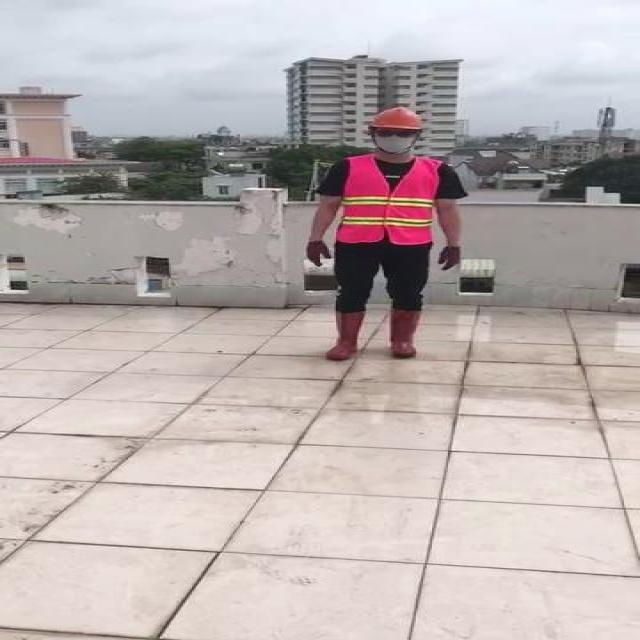boots: (326, 308, 364, 360), (387, 308, 425, 358)
face_mask: (373, 128, 418, 154)
glasses: (376, 128, 419, 140)
hand_glove: (437, 245, 464, 271), (306, 240, 329, 266)
head_helmet: (370, 106, 423, 131)
person: (300, 103, 473, 364)
vest: (338, 156, 437, 245)
